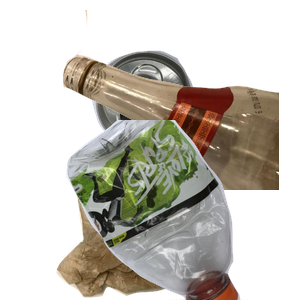glass: (60, 10, 300, 190)
metal: (89, 48, 276, 192)
plastic: (64, 120, 300, 300)
trash: (54, 147, 271, 300)
